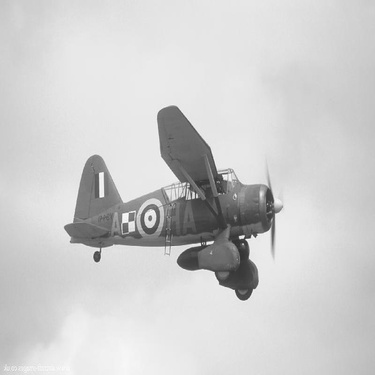airplane: (34, 95, 298, 317)
